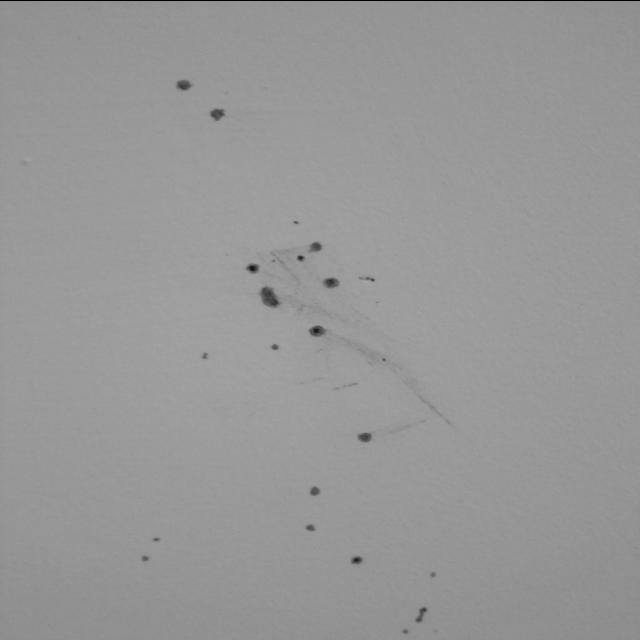pin holes: (255, 281, 282, 312), (172, 64, 196, 97), (205, 98, 229, 126), (352, 423, 377, 448), (304, 316, 328, 342), (241, 262, 267, 284), (318, 270, 340, 293), (414, 602, 429, 631), (422, 566, 445, 584), (353, 272, 382, 286), (371, 353, 397, 368), (305, 237, 326, 255), (136, 549, 156, 566), (307, 481, 324, 501), (349, 553, 365, 570), (198, 348, 214, 364), (302, 520, 318, 536), (268, 337, 284, 352), (296, 248, 308, 266), (401, 624, 414, 640), (269, 253, 280, 270), (430, 626, 444, 639), (151, 534, 166, 546), (290, 219, 302, 228)
